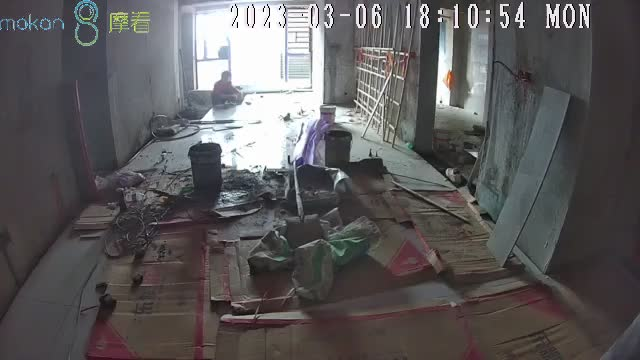people: (212, 70, 241, 107)
window: (194, 6, 316, 93)
